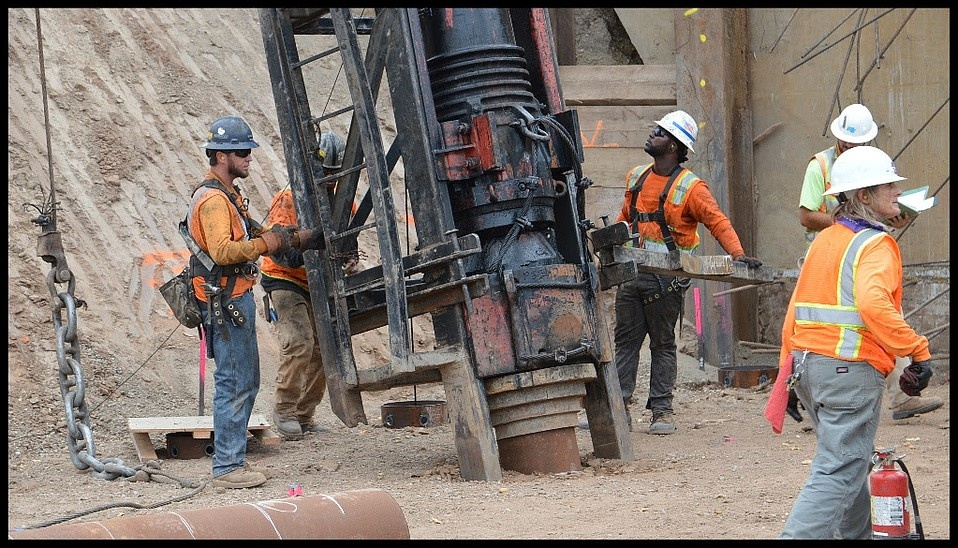blue: (205, 116, 258, 182), (308, 131, 348, 183)
white: (828, 143, 906, 221), (643, 106, 696, 163), (832, 104, 879, 154)
